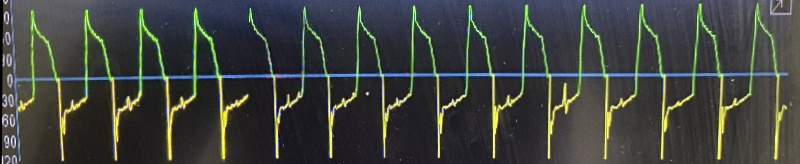hydrop_peepi: (4, 3, 797, 162)
